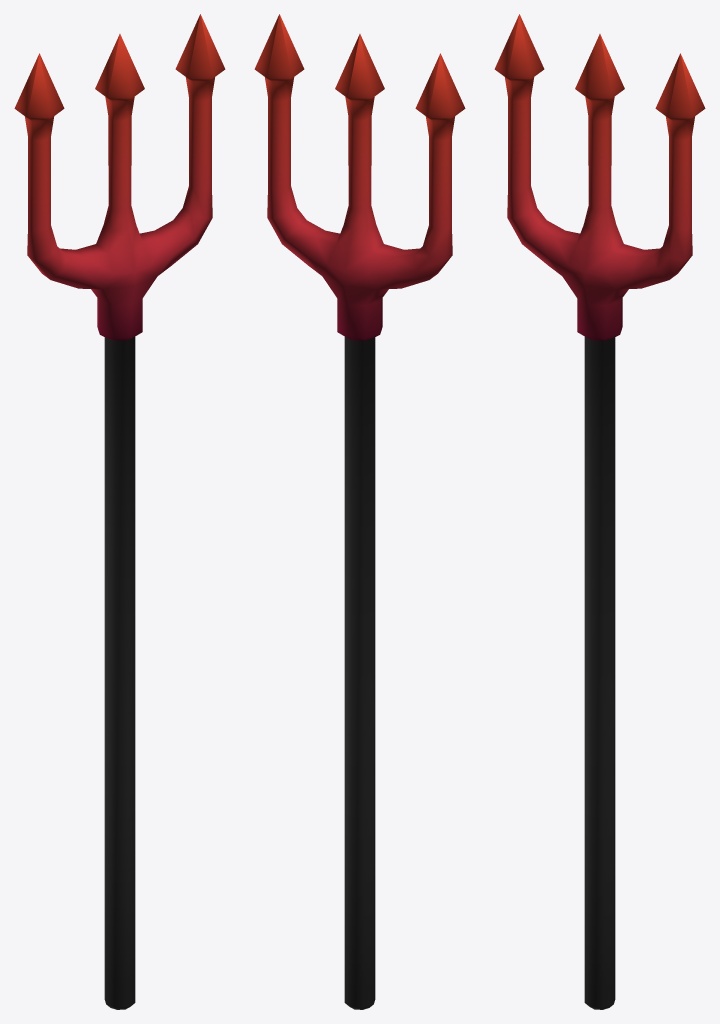
The model's file is SPEAR.fbx.
3 renders of one model, left to right at view 1: azimuth 30°, elevation 25°; view 2: azimuth 150°, elevation 25°; view 3: azimuth 330°, elevation 25°, orthographic.
Parts seen in each view (by area): view 1: spear; view 2: spear; view 3: spear.
Boxes of the visible parts, x1=… form: spear: x1=14, y1=14, x2=225, y2=1009; spear: x1=254, y1=14, x2=465, y2=1009; spear: x1=494, y1=14, x2=705, y2=1009.
Bounding box in the file's own units: 39.61 × 185 × 10.48.
